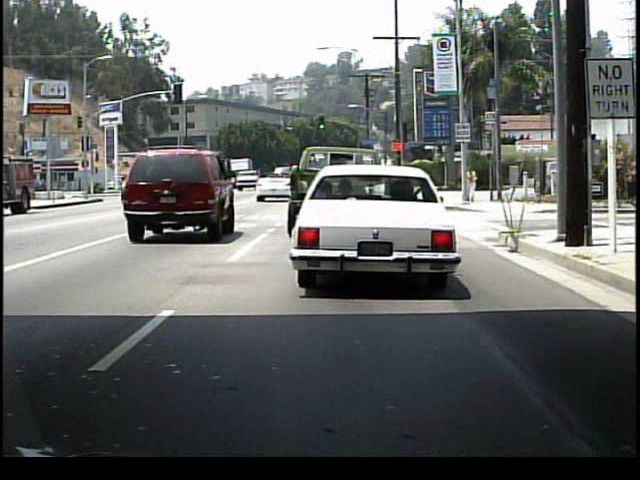person: (467, 167, 479, 204)
